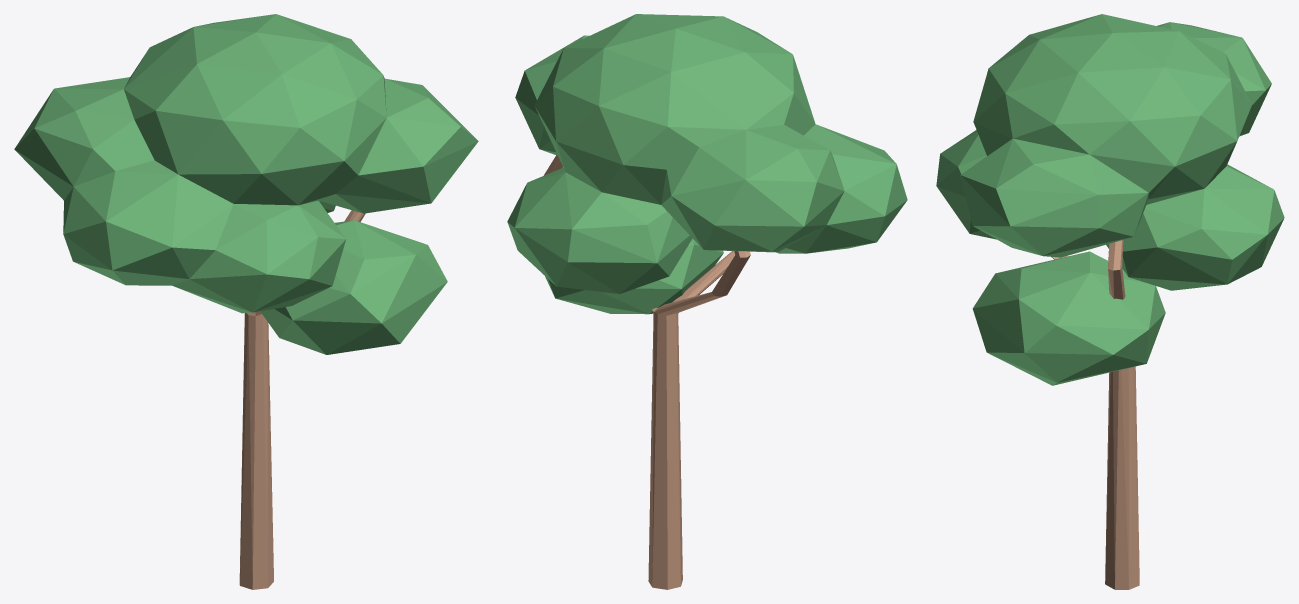
File: tree29.fbx
3 renders of one model, left to right at view 1: azimuth 30°, elevation 25°; view 2: azimuth 150°, elevation 25°; view 3: azimuth 270°, elevation 25°, orthographic.
Parts seen in each view (by area): view 1: treetype29; view 2: treetype29; view 3: treetype29.
Part boxes in pixels (bbox=[...]): treetype29: bbox=[14, 14, 478, 589]; treetype29: bbox=[507, 14, 907, 589]; treetype29: bbox=[936, 14, 1284, 589].
Bounding box in the file's own units: 135 × 193 × 111.
